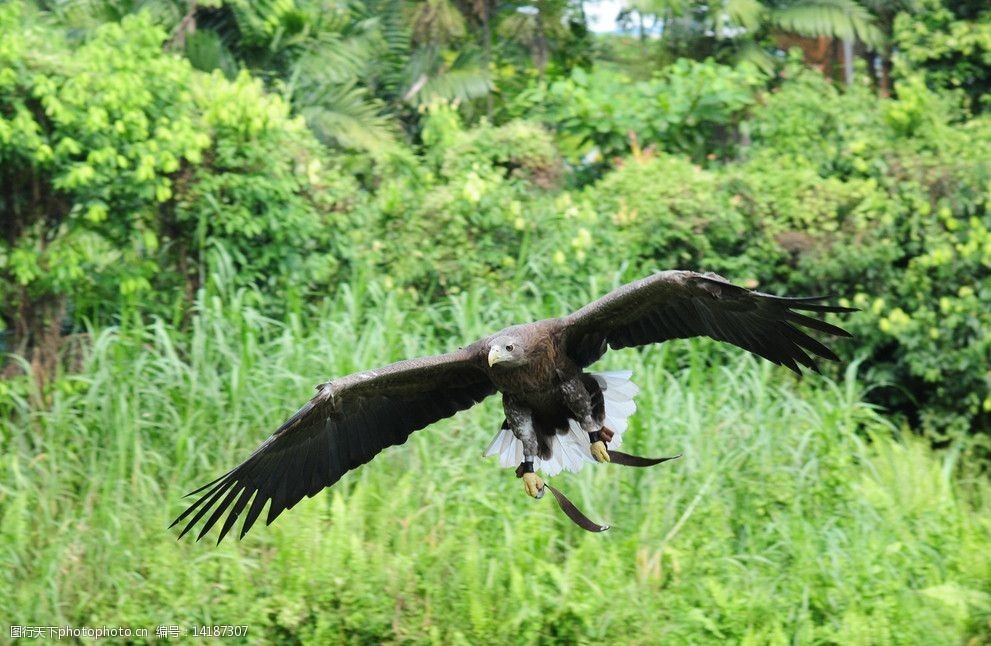bird: (169, 269, 860, 547)
